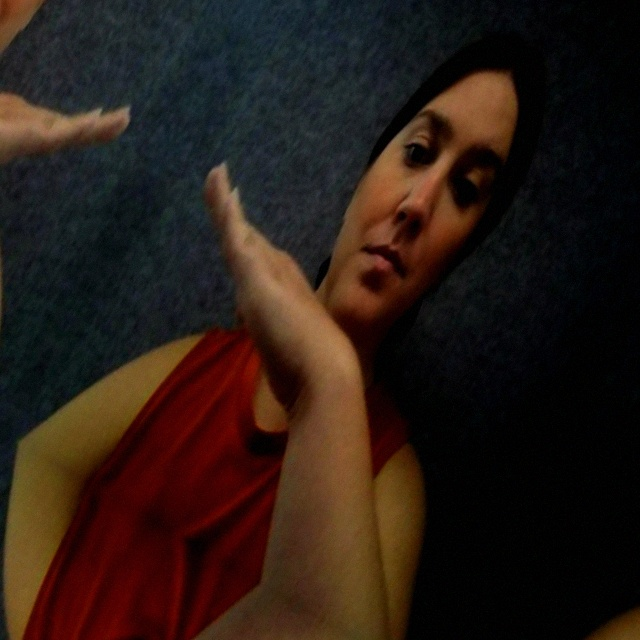Paper: (0, 0, 155, 307)
